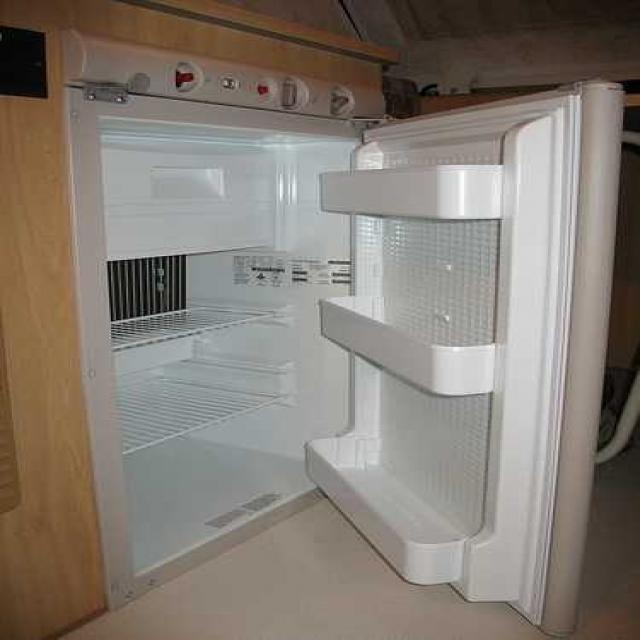refrigerator: (67, 33, 566, 599)
